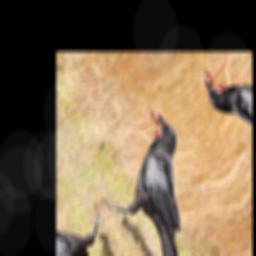Crow: (77, 94, 234, 256)
